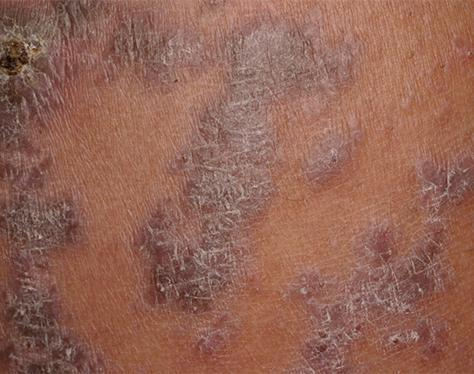hypertrophic lichen planus: (6, 11, 474, 374)
